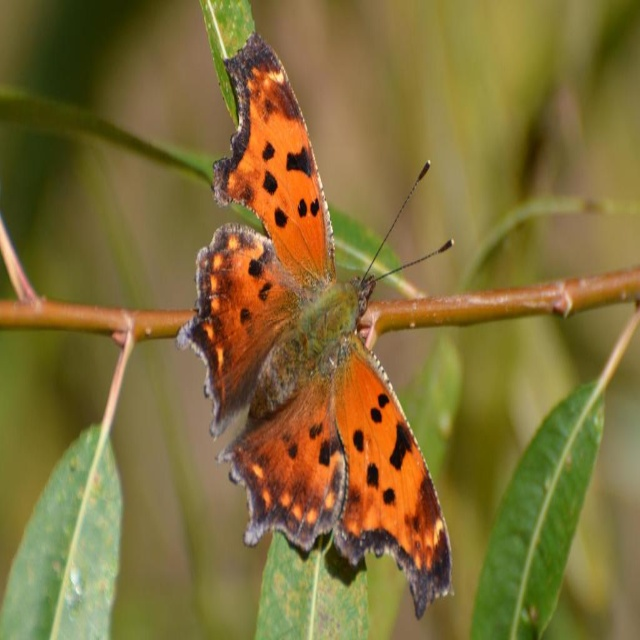Butterfly: (176, 47, 453, 623)
